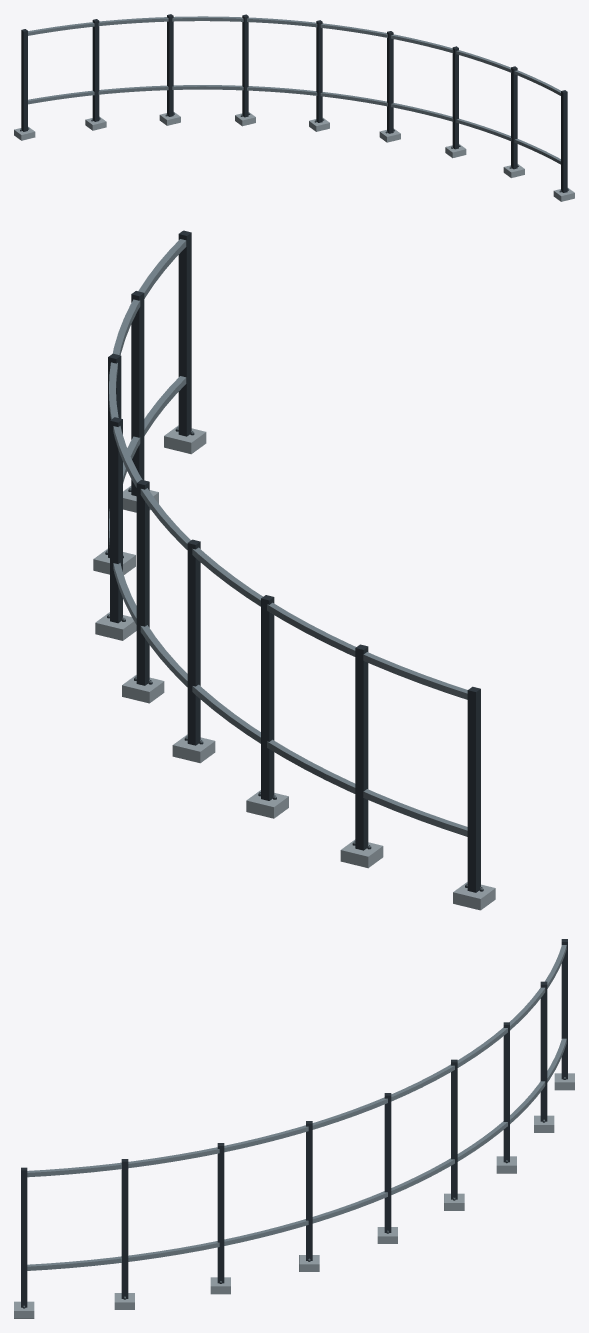
Rendered from SM_Lab_RailQuarter.fbx.
The picture shows the model from 3 angles, top to bottom: view 1: azimuth 30°, elevation 25°; view 2: azimuth 150°, elevation 25°; view 3: azimuth 270°, elevation 25°; orthographic projection. The views are drawn at different scales.
Visible parts, largest first — view 1: SM_Lab_RailQuarter; view 2: SM_Lab_RailQuarter; view 3: SM_Lab_RailQuarter.
Part boxes in pixels (<box>): SM_Lab_RailQuarter: <box>14,14,574,201</box>; SM_Lab_RailQuarter: <box>93,230,495,910</box>; SM_Lab_RailQuarter: <box>14,939,574,1318</box>.
Size of the model in its own units: 386 by 385 by 112.
